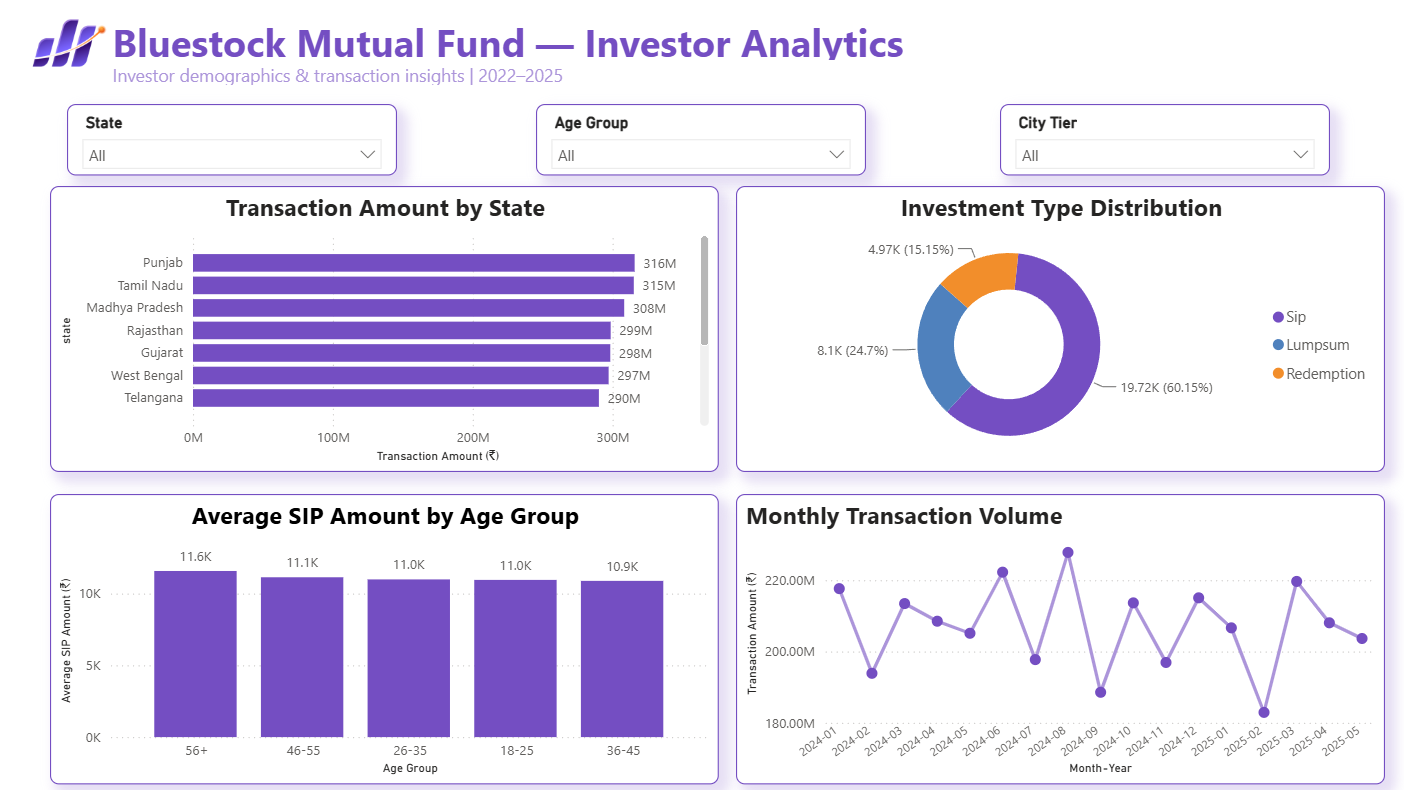

What the dashboard file says about the page in this screenshot:
{"tool":"powerbi","page":{"name":"Investor Analytics","canvas":[1280,720],"ordinal":2},"visuals":[{"type":"textbox","title":"Bluestock Mutual Fund — Investor Analytics","box":[100,15,1000,40],"z":0},{"type":"textbox","title":"Investor demographics & transaction insights | 2022–2025","box":[100,58,1000,20],"z":1000},{"type":"slicer","title":"State","fields":{"Values":["08_investor_transactions_cleaned.state"]},"box":[64,95,300,65],"z":2000},{"type":"slicer","title":"State","fields":{"Values":["08_investor_transactions_cleaned.city_tier"]},"box":[912,95,300,65],"z":3000},{"type":"slicer","title":"Age Group","fields":{"Values":["08_investor_transactions_cleaned.age_group"]},"box":[490,95,300,65],"z":4000},{"type":"clusteredBarChart","title":"Transaction Amount by State","fields":{"Category":["08_investor_transactions_cleaned.state"],"Y":["Sum(08_investor_transactions_cleaned.amount_inr)"]},"box":[48,170,608,260],"z":5000},{"type":"donutChart","title":"Investment Type Distribution","fields":{"Category":["08_investor_transactions_cleaned.transaction_type"],"Y":["CountNonNull(08_investor_transactions_cleaned.investor_id)"]},"box":[672,170,590,260],"z":6000},{"type":"clusteredColumnChart","title":"Average SIP Amount by Age Group","fields":{"Category":["08_investor_transactions_cleaned.age_group"],"Y":["Avg(08_investor_transactions_cleaned.amount_inr)"]},"box":[48,450,608,264],"z":7000},{"type":"lineChart","title":"Monthly Transaction Volume","fields":{"Category":["DateTable.Year Month"],"Y":["Sum(08_investor_transactions_cleaned.amount_inr)"]},"box":[672,450,590,264],"z":8000},{"type":"image","box":[0,0,128,80],"z":9000}]}

Visuals, with their boxes in screenshot pixels (x1, y1, x2, y2), scaled from the page's 1280x720 canvas onto the 1404x790 screenshot:
"Bluestock Mutual Fund — Investor Analytics" textbox: 110,16,1207,60
"Investor demographics & transaction insights | 2022–2025" textbox: 110,64,1207,86
"State" slicer: 70,104,399,176
"State" slicer: 1000,104,1329,176
"Age Group" slicer: 537,104,867,176
"Transaction Amount by State" clusteredBarChart: 53,187,720,472
"Investment Type Distribution" donutChart: 737,187,1384,472
"Average SIP Amount by Age Group" clusteredColumnChart: 53,494,720,783
"Monthly Transaction Volume" lineChart: 737,494,1384,783
image: 0,0,140,88
